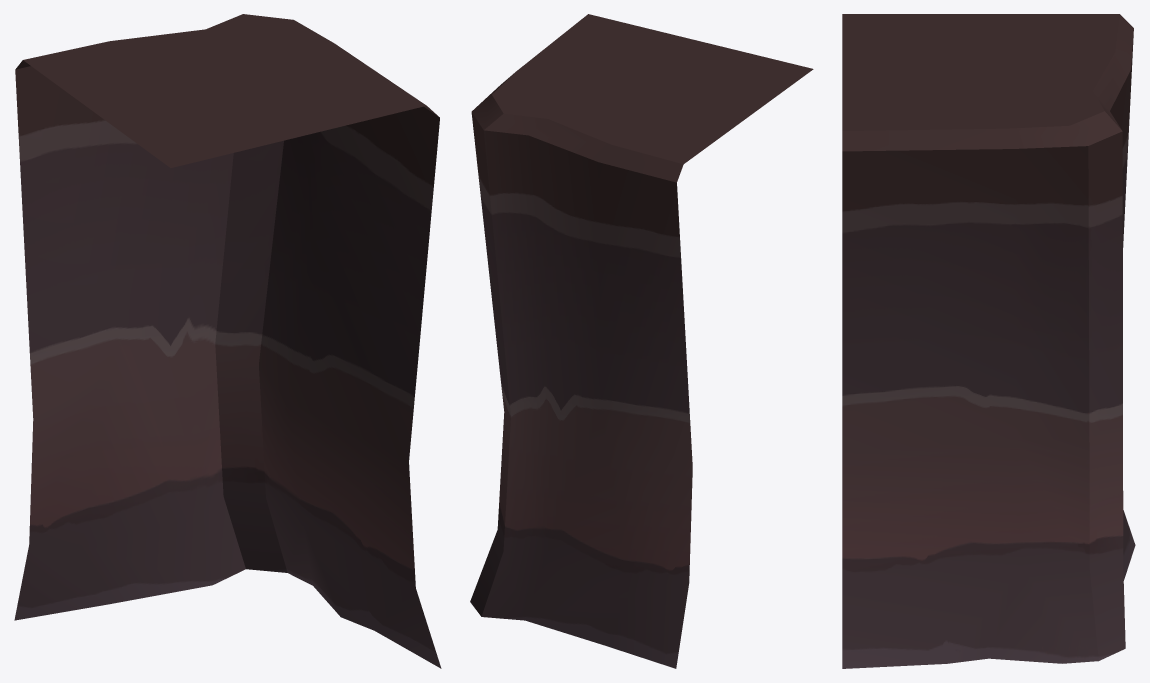
The model's file is M_Wall_Corner.fbx.
The picture shows the model from 3 angles, left to right: view 1: azimuth 30°, elevation 25°; view 2: azimuth 150°, elevation 25°; view 3: azimuth 270°, elevation 25°; orthographic projection. The views are drawn at different scales.
Visible parts, largest first — view 1: M_Wall_Corner; view 2: M_Wall_Corner; view 3: M_Wall_Corner.
Boxes of the visible parts, box(x1,y1,x2,y2) form: M_Wall_Corner: box(14, 14, 441, 668); M_Wall_Corner: box(470, 14, 813, 668); M_Wall_Corner: box(842, 14, 1135, 668).
Size of the model in its own units: 200 by 400 by 200.
